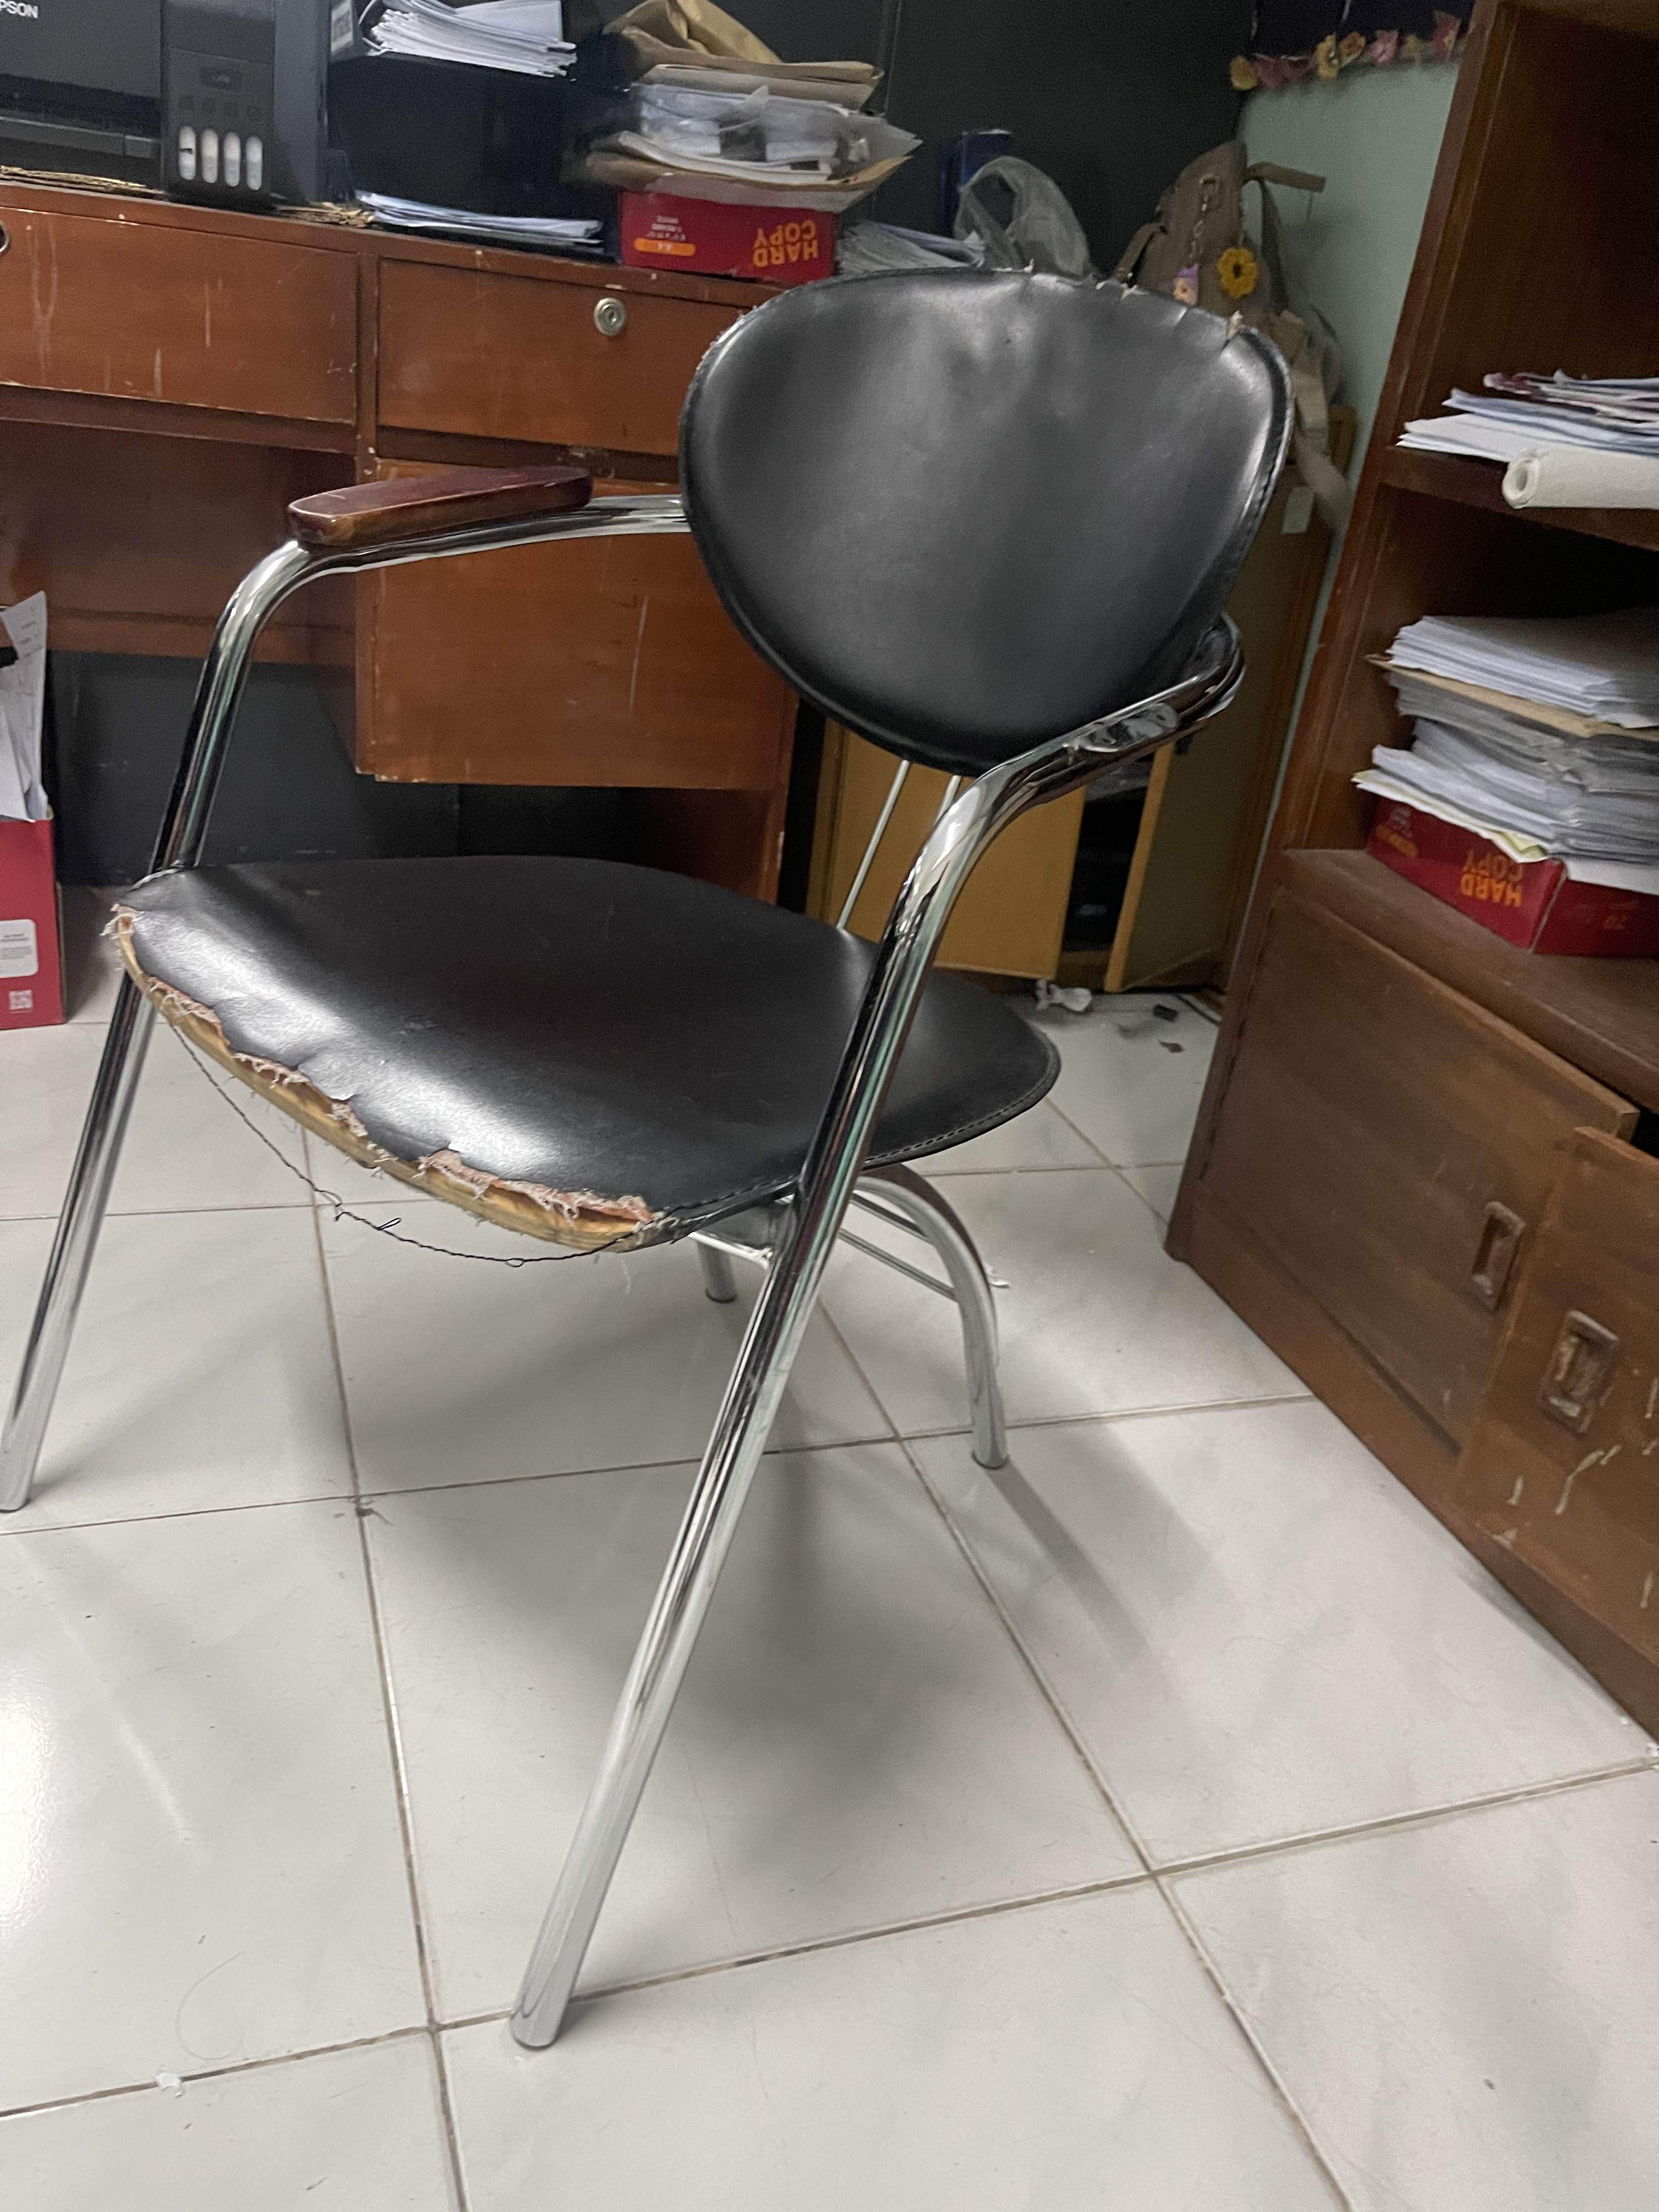chair1: (5, 249, 1304, 2074)
